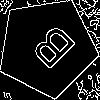B: (22, 22, 78, 78)
